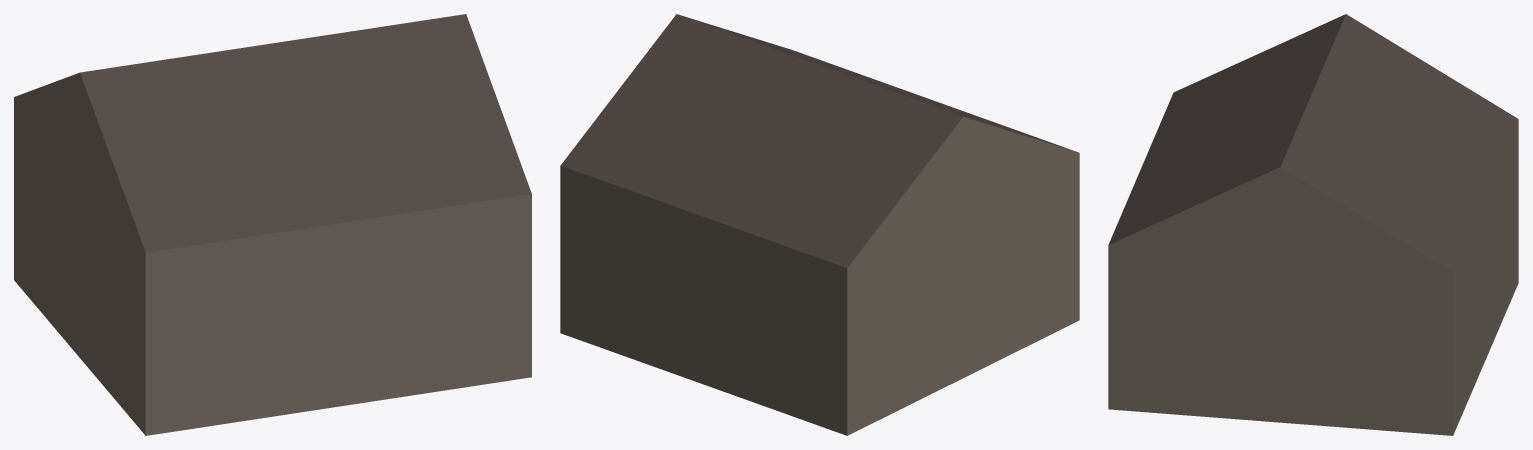
3 views of the same model, side by side, from view 1: azimuth 30°, elevation 25°; view 2: azimuth 150°, elevation 25°; view 3: azimuth 270°, elevation 25° (orthographic). The views are drawn at different scales.
Parts seen in each view (by area): view 1: HP-w859082499; view 2: HP-w859082499; view 3: HP-w859082499.
Boxes of the visible parts, x1,y1,x2,y2 form: HP-w859082499: (14, 14, 531, 435); HP-w859082499: (560, 14, 1079, 435); HP-w859082499: (1108, 14, 1518, 435).
Size of the model in its own units: 14.08 by 9.36 by 13.6.
